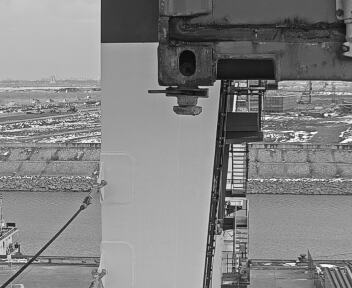twist_lock_1: (156, 75, 218, 126)
